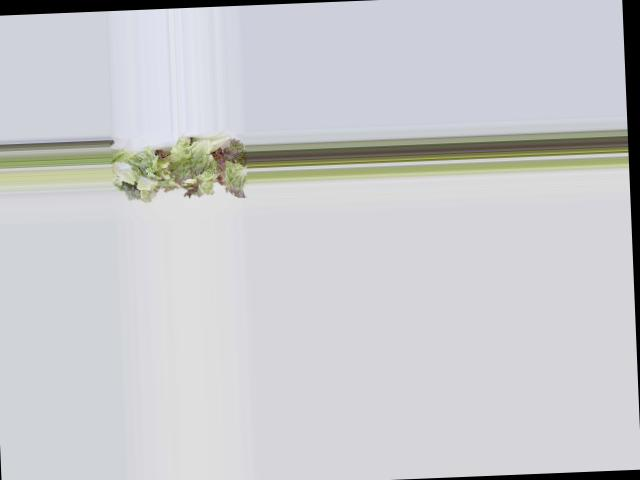lettuce: (118, 142, 243, 198)
